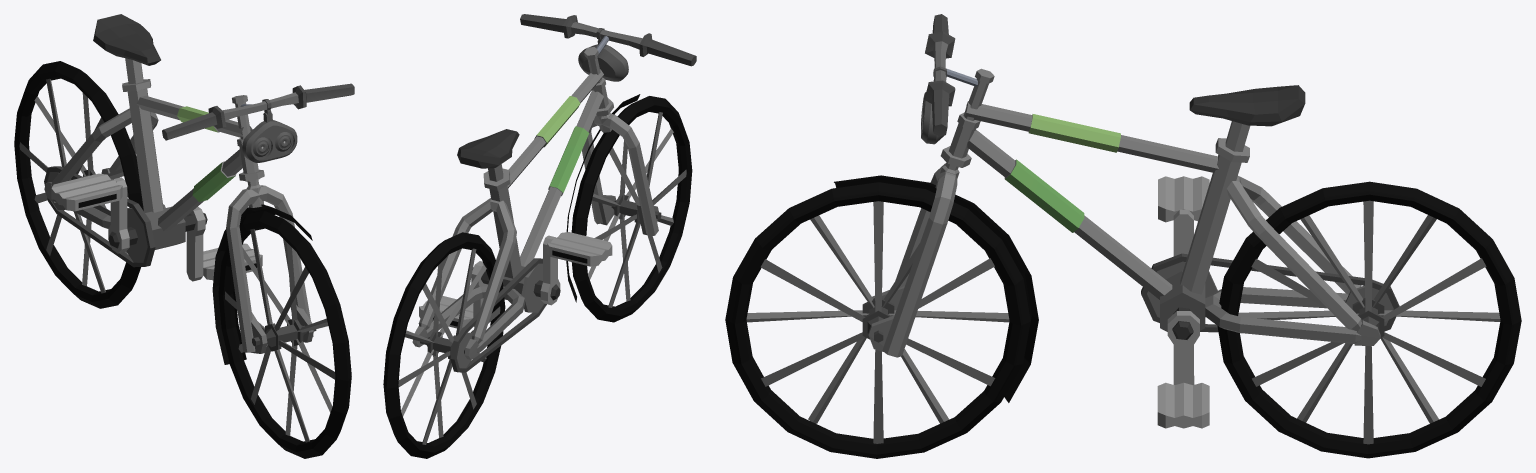
Rendered from bike-only-hybrid.glb.
The picture shows the model from 3 angles, left to right: view 1: azimuth 30°, elevation 25°; view 2: azimuth 150°, elevation 25°; view 3: azimuth 270°, elevation 25°; orthographic projection. The views are drawn at different scales.
Parts seen in each view (by area): view 1: SM_Veh_Bike_02_Combined, Horn, SM_Veh_Bike_02_Combined.001; view 2: SM_Veh_Bike_02_Combined, Horn, SM_Veh_Bike_02_Combined.001; view 3: SM_Veh_Bike_02_Combined, SM_Veh_Bike_02_Combined.001.
Part boxes in pixels (x1,y1,x2,y2): SM_Veh_Bike_02_Combined: [14, 14, 354, 458]; Horn: [242, 99, 297, 162]; SM_Veh_Bike_02_Combined.001: [212, 204, 312, 364]; SM_Veh_Bike_02_Combined: [383, 14, 696, 458]; Horn: [578, 28, 628, 81]; SM_Veh_Bike_02_Combined.001: [566, 94, 640, 302]; SM_Veh_Bike_02_Combined: [725, 14, 1521, 458]; SM_Veh_Bike_02_Combined.001: [834, 175, 1038, 402].
Size of the model in its own units: 0.6885 by 1.12 by 2.02.
Materials: 1 (1 with a texture image).
